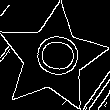O_W: (25, 33, 80, 83)
